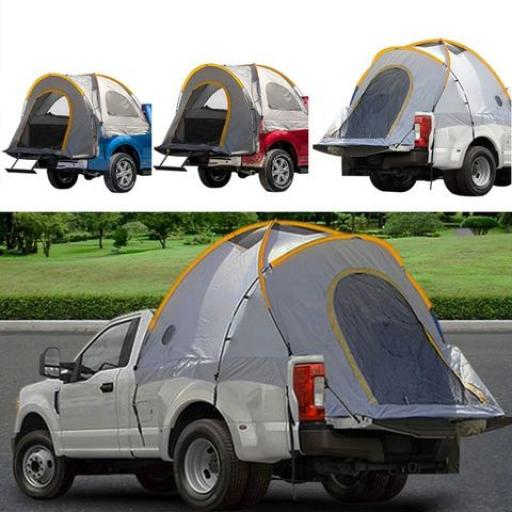pickup: (13, 307, 465, 512)
truck: (5, 74, 150, 192), (37, 126, 150, 192)
